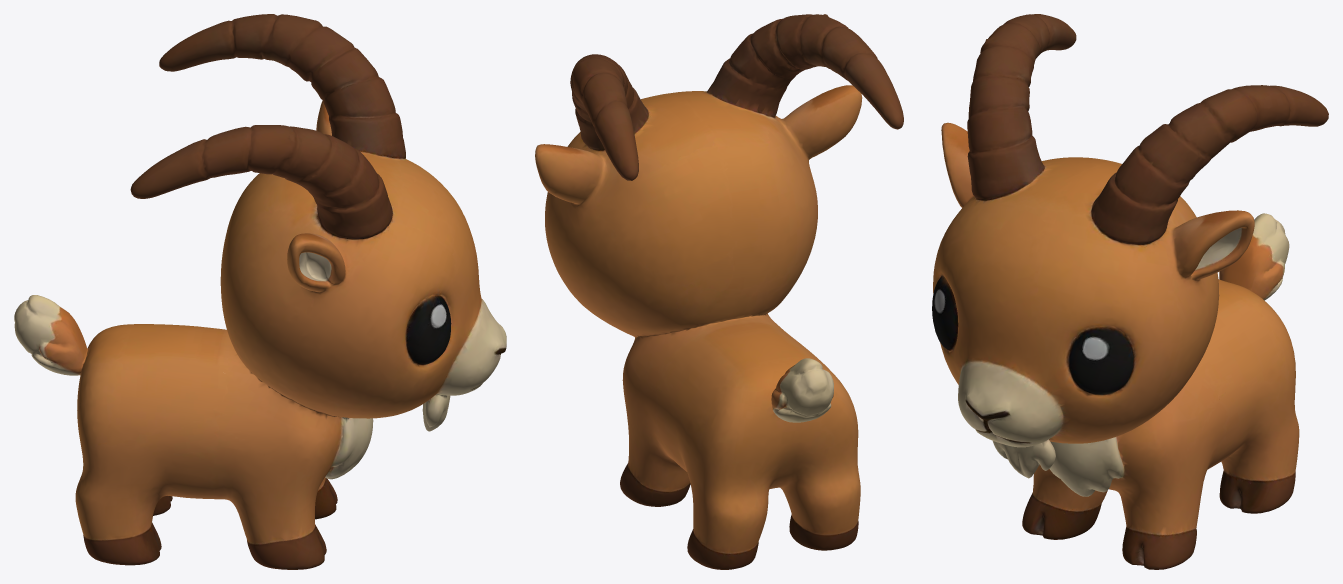
Rendered from toy-ibex-tripo-raw.glb.
3 views of the same model, side by side, from view 1: azimuth 30°, elevation 25°; view 2: azimuth 150°, elevation 25°; view 3: azimuth 270°, elevation 25° (orthographic). The views are drawn at different scales.
Visible parts, largest first — view 1: tripo_node_0735887d-d79f-4b1d-8b45-a5c8b12841a0; view 2: tripo_node_0735887d-d79f-4b1d-8b45-a5c8b12841a0; view 3: tripo_node_0735887d-d79f-4b1d-8b45-a5c8b12841a0.
Part boxes in pixels (x1=…): tripo_node_0735887d-d79f-4b1d-8b45-a5c8b12841a0: x1=14, y1=14, x2=506, y2=569; tripo_node_0735887d-d79f-4b1d-8b45-a5c8b12841a0: x1=535, y1=14, x2=903, y2=569; tripo_node_0735887d-d79f-4b1d-8b45-a5c8b12841a0: x1=932, y1=14, x2=1328, y2=569.
Bounding box in the file's own units: 0.8162 × 0.9999 × 0.7532.
1 material, 1 textured.
